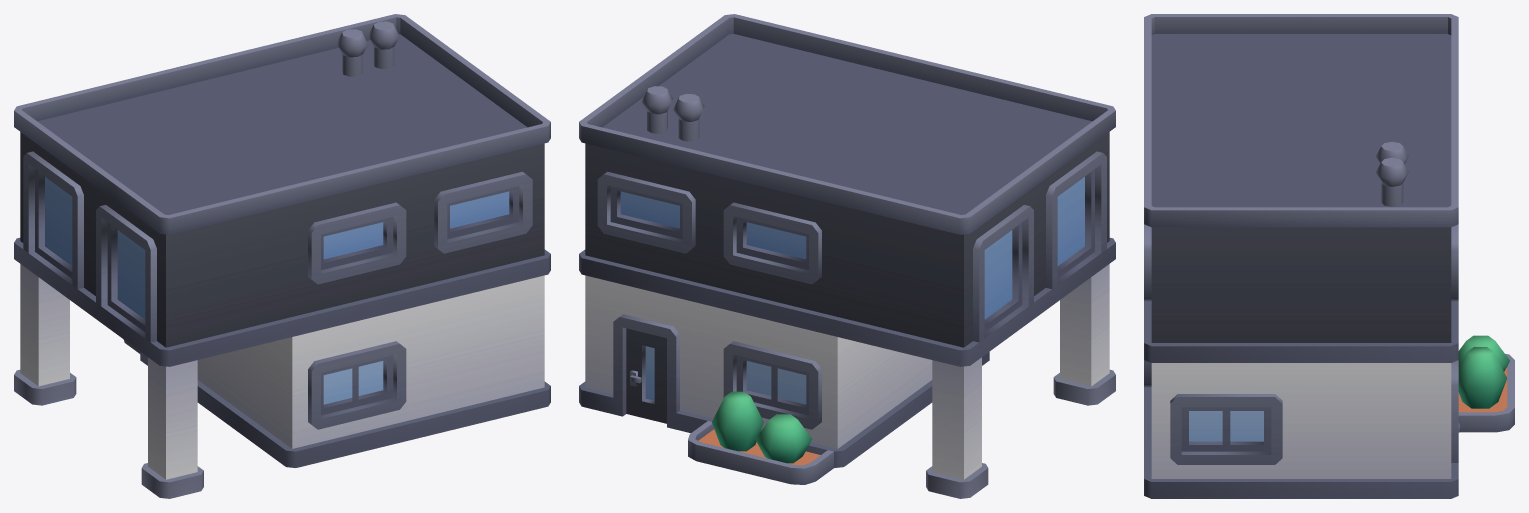
Rendered from suburban-building-type-p.glb.
3 views of the same model, side by side, from view 1: azimuth 30°, elevation 25°; view 2: azimuth 150°, elevation 25°; view 3: azimuth 270°, elevation 25° (orthographic). The views are drawn at different scales.
Parts seen in each view (by area): view 1: building-type-p; view 2: building-type-p; view 3: building-type-p.
Part boxes in pixels (x1,y1,x2,y2): building-type-p: (14, 14, 550, 498); building-type-p: (579, 14, 1115, 498); building-type-p: (1144, 14, 1514, 498).
Size of the model in its own units: 1.24 by 0.918 by 0.9901.
1 material, 1 textured.
